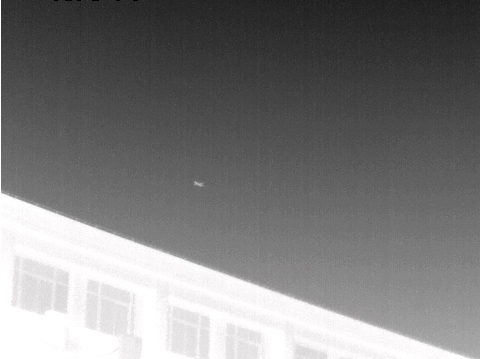dim target: (193, 180, 204, 187)
